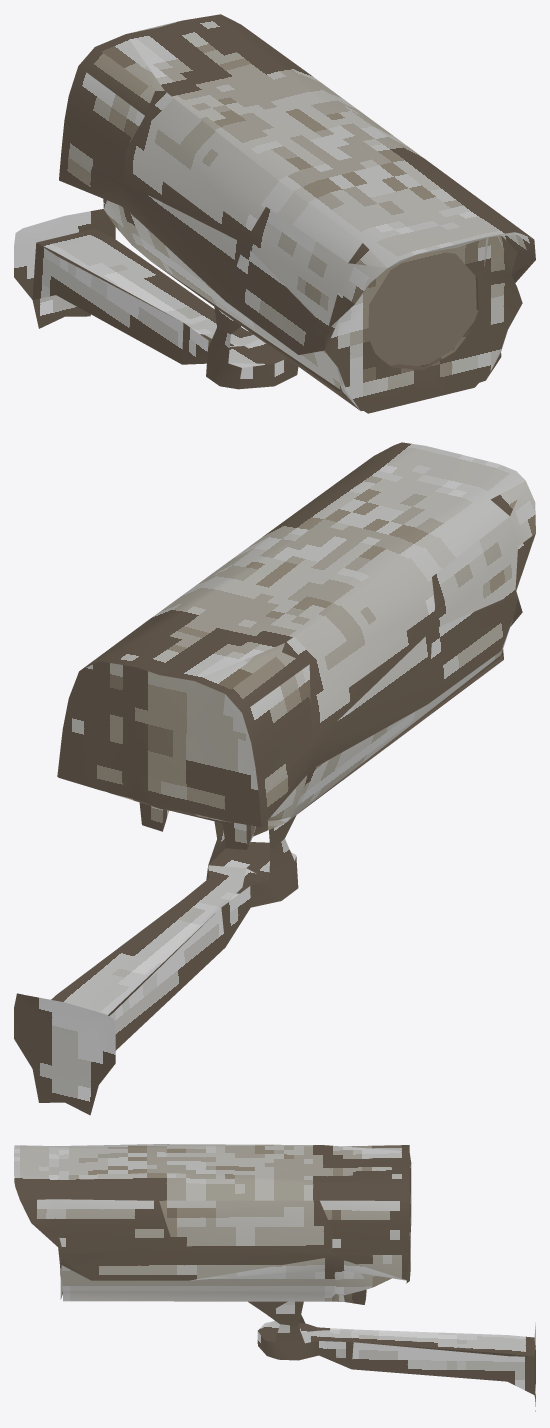
File: security_camera_01.glb
3 renders of one model, top to bottom at view 1: azimuth 30°, elevation 25°; view 2: azimuth 150°, elevation 25°; view 3: azimuth 270°, elevation 25°, orthographic. The views are drawn at different scales.
Visible parts, largest first — view 1: mesh; view 2: mesh; view 3: mesh.
Boxes of the visible parts, box(x1,y1,x2,y2) form: mesh: box(14, 14, 535, 413); mesh: box(14, 442, 535, 1115); mesh: box(14, 1144, 535, 1411).
Bounding box in the file's own units: 0.1682 × 0.286 × 0.5556.
1 material, 1 textured.
